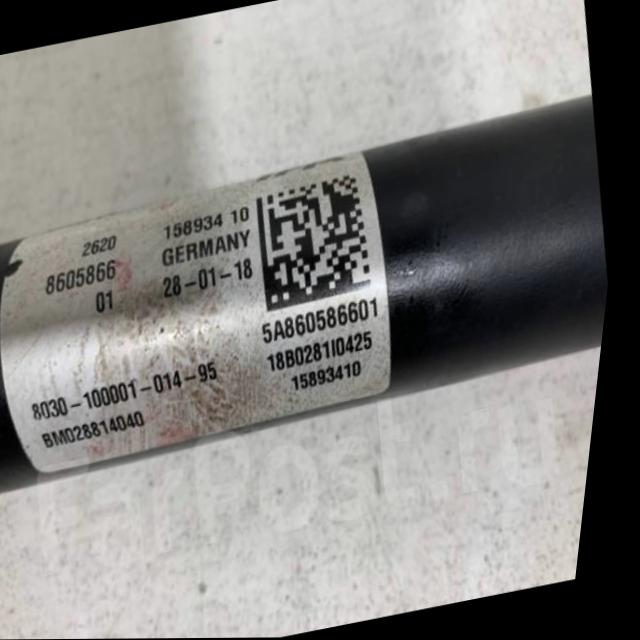datamatrix: (251, 173, 390, 313)
